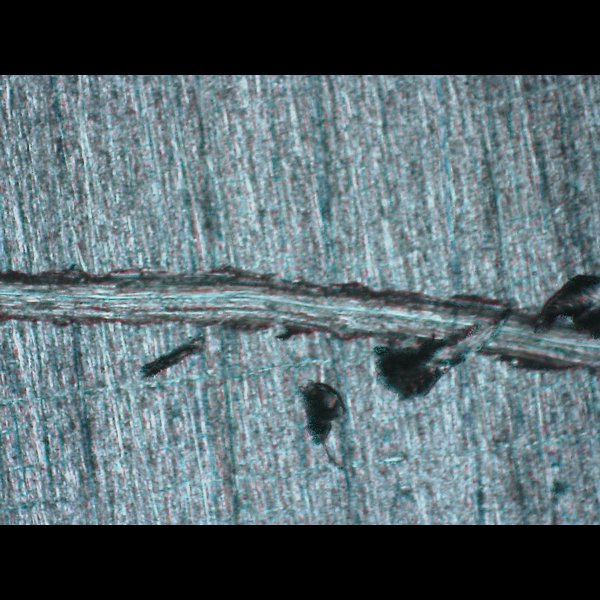d: (0, 243, 598, 461)
